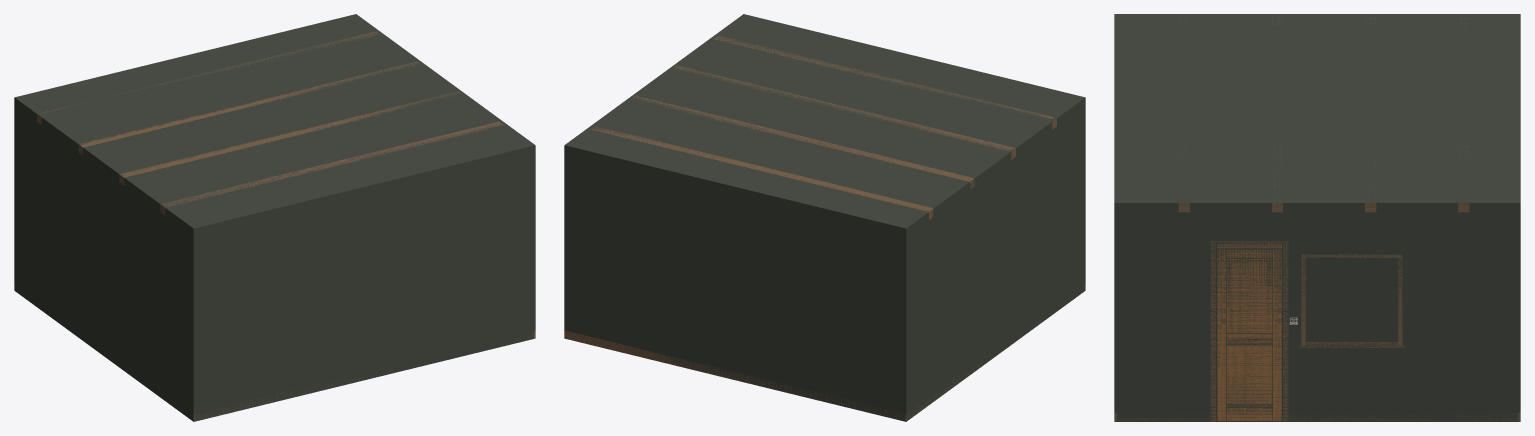
The model's file is studio-full-kit-m4-proposal-v02.glb.
3 renders of one model, left to right at view 1: azimuth 30°, elevation 25°; view 2: azimuth 150°, elevation 25°; view 3: azimuth 270°, elevation 25°, orthographic. The views are drawn at different scales.
Parts seen in each view (by area): view 1: arch_shell__walls_ceiling, arch_cornice__front, arch_beams__beam_4, arch_beams__beam_3, arch_beams__beam_2, arch_cornice__left, arch_cornice__back, arch_beams__beam_1, arch_cornice__right; view 2: arch_shell__walls_ceiling, arch_cornice__back, arch_skirting__back, arch_beams__beam_1, arch_beams__beam_2, arch_beams__beam_3, arch_beams__beam_4, arch_cornice__left, arch_cornice__front, arch_cornice__right; view 3: arch_shell__walls_ceiling, arch_door__leaf, arch_cornice__right, arch_door__architrave, arch_cornice__left, arch_cornice__front, arch_cornice__back, arch_skirting__right, arch_window__jamb_b, arch_window__jamb_a.
Boxes of the visible parts, bbox=[...] form: arch_shell__walls_ceiling: bbox=[14, 16, 535, 421]; arch_cornice__front: bbox=[192, 144, 535, 232]; arch_beams__beam_4: bbox=[160, 121, 503, 215]; arch_beams__beam_3: bbox=[119, 91, 459, 185]; arch_beams__beam_2: bbox=[78, 61, 419, 155]; arch_cornice__left: bbox=[16, 97, 196, 232]; arch_cornice__back: bbox=[14, 14, 357, 102]; arch_beams__beam_1: bbox=[37, 31, 381, 125]; arch_cornice__right: bbox=[354, 14, 535, 150]; arch_shell__walls_ceiling: bbox=[564, 16, 1085, 421]; arch_cornice__back: bbox=[564, 144, 907, 232]; arch_skirting__back: bbox=[566, 331, 906, 421]; arch_beams__beam_1: bbox=[590, 127, 933, 219]; arch_beams__beam_2: bbox=[633, 95, 974, 189]; arch_beams__beam_3: bbox=[674, 66, 1015, 159]; arch_beams__beam_4: bbox=[713, 36, 1056, 129]; arch_cornice__left: bbox=[903, 97, 1083, 232]; arch_cornice__front: bbox=[742, 14, 1085, 101]; arch_cornice__right: bbox=[564, 14, 744, 149]; arch_shell__walls_ceiling: bbox=[1114, 14, 1520, 421]; arch_door__leaf: bbox=[1217, 249, 1281, 420]; arch_cornice__right: bbox=[1114, 201, 1520, 207]; arch_door__architrave: bbox=[1210, 241, 1289, 421]; arch_cornice__left: bbox=[1114, 14, 1520, 15]; arch_cornice__front: bbox=[1114, 14, 1118, 207]; arch_cornice__back: bbox=[1516, 14, 1520, 207]; arch_skirting__right: bbox=[1117, 412, 1518, 421]; arch_window__jamb_b: bbox=[1301, 257, 1305, 345]; arch_window__jamb_a: bbox=[1398, 256, 1402, 345].
Bounding box in the file's own units: 4.8 × 2.6 × 4.36.
12 materials, 3 textured.
